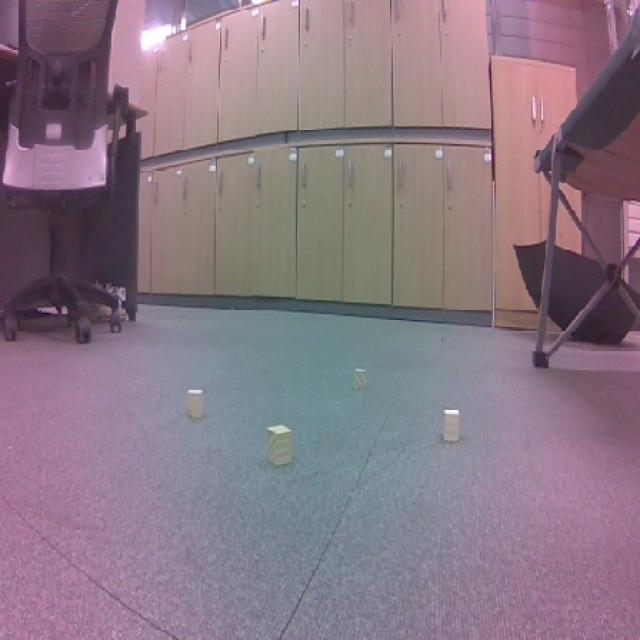obstacle: (258, 418, 302, 474), (440, 406, 469, 448), (182, 384, 210, 422)
